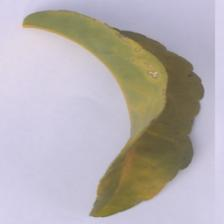greening: (20, 7, 212, 217)
